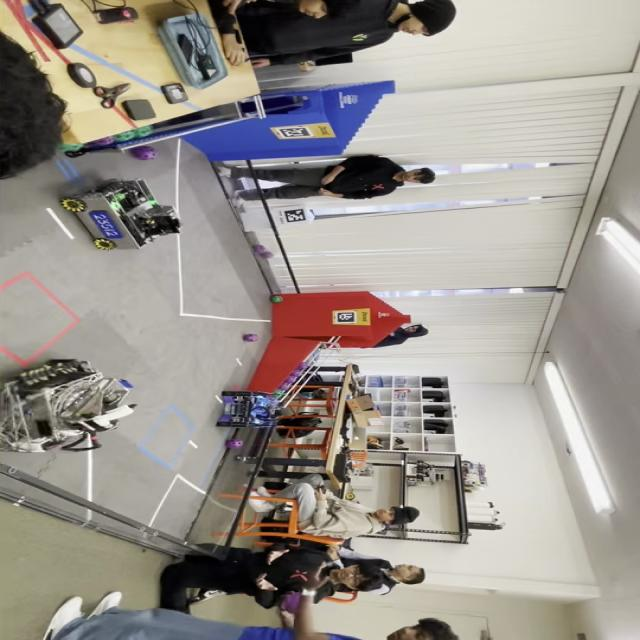artifact_green: (113, 130, 136, 141), (91, 136, 114, 146), (134, 126, 152, 138), (59, 144, 84, 151), (226, 439, 244, 448), (270, 295, 283, 303), (273, 390, 284, 397), (345, 493, 355, 500)
artifact_purple: (281, 592, 301, 613), (130, 146, 158, 160), (92, 136, 114, 146), (226, 439, 243, 449), (253, 245, 266, 254), (259, 251, 273, 259), (243, 334, 259, 341), (296, 363, 306, 371), (294, 366, 305, 373), (278, 384, 287, 392), (286, 376, 296, 383), (292, 370, 302, 376)
